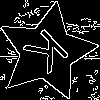K: (22, 27, 78, 83)
